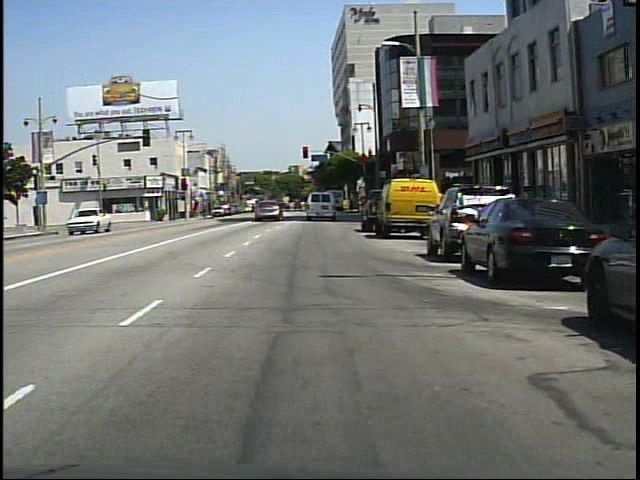person: (253, 192, 270, 222), (91, 202, 107, 230)
